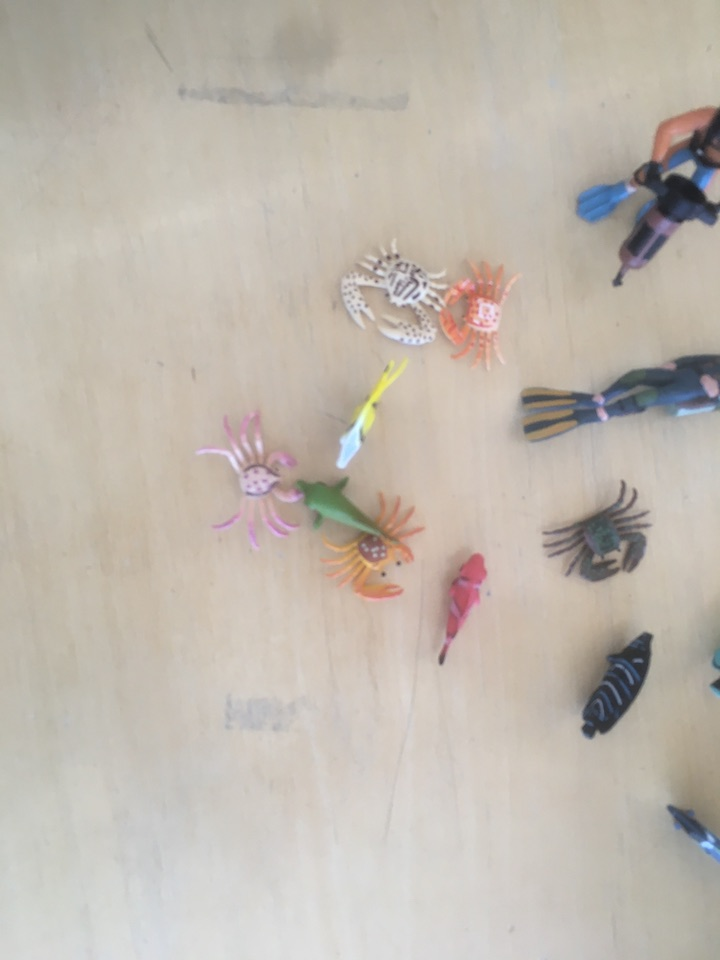crab: (197, 401, 310, 548), (333, 236, 453, 352), (317, 492, 428, 607), (430, 245, 525, 373), (539, 477, 655, 581)
danger: (330, 345, 422, 473)
diver: (571, 100, 720, 290), (515, 348, 720, 450)
fish: (572, 627, 659, 745), (289, 477, 403, 551), (431, 548, 497, 673), (659, 796, 720, 865)
